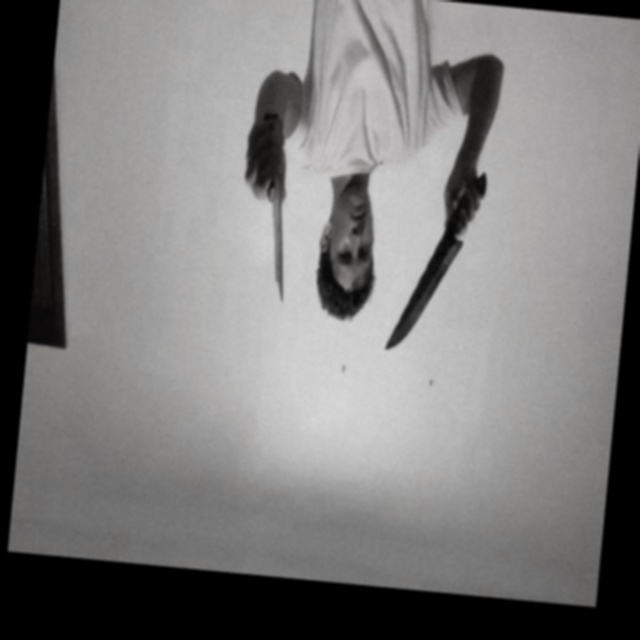Sharp-Object: (384, 232, 463, 357), (262, 190, 294, 303)
